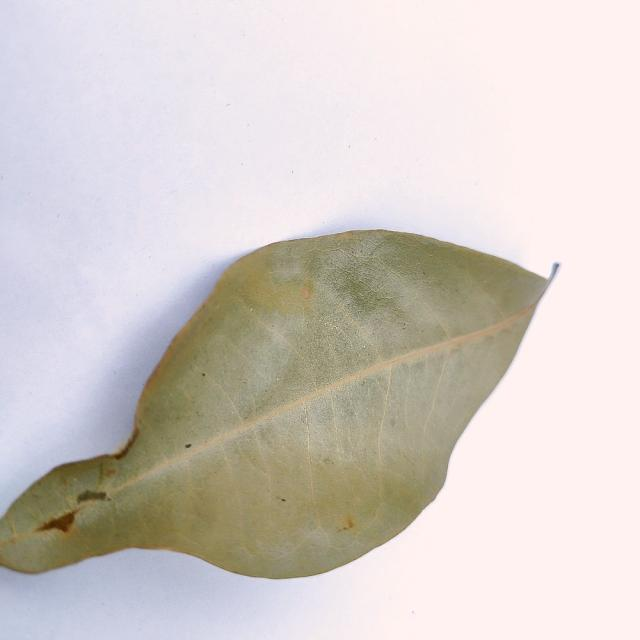Dry_Leaf-Lychee: (0, 230, 554, 583)
